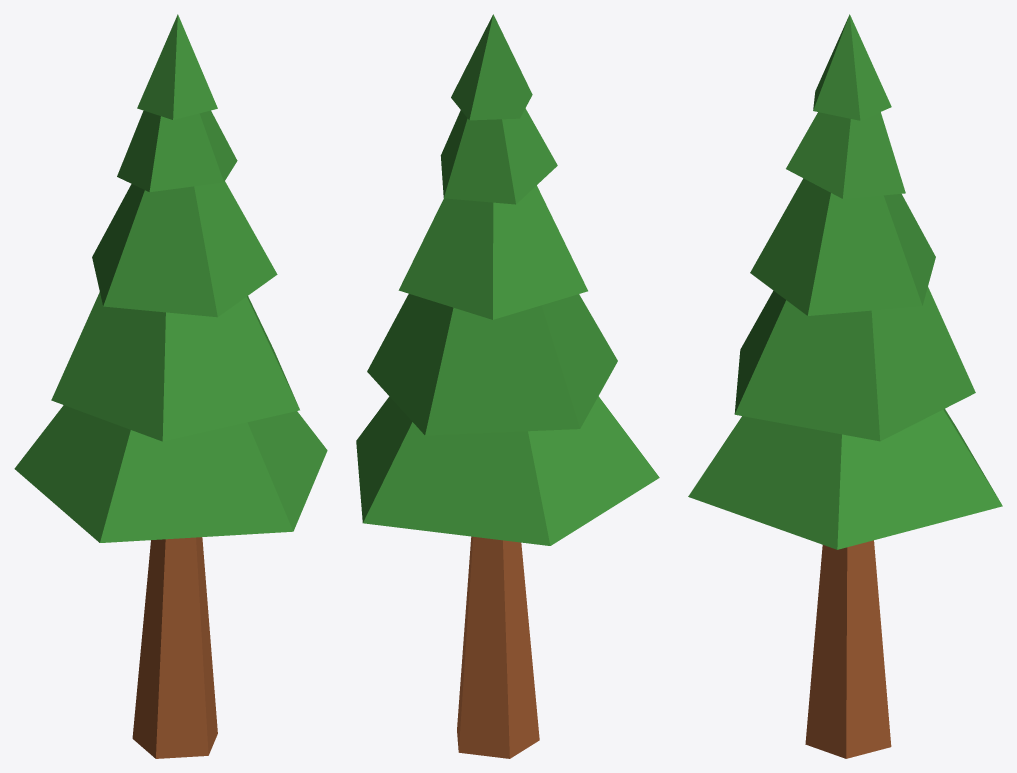
Rendered from agac1.fbx.
The picture shows the model from 3 angles, left to right: view 1: azimuth 30°, elevation 25°; view 2: azimuth 150°, elevation 25°; view 3: azimuth 270°, elevation 25°; orthographic projection.
Parts seen in each view (by area): view 1: polySurface23; view 2: polySurface23; view 3: polySurface23.
Boxes of the visible parts, bbox=[...] form: polySurface23: bbox=[14, 14, 327, 758]; polySurface23: bbox=[356, 14, 659, 758]; polySurface23: bbox=[688, 14, 1002, 758].
Size of the model in its own units: 16.23 by 42.46 by 16.69.
